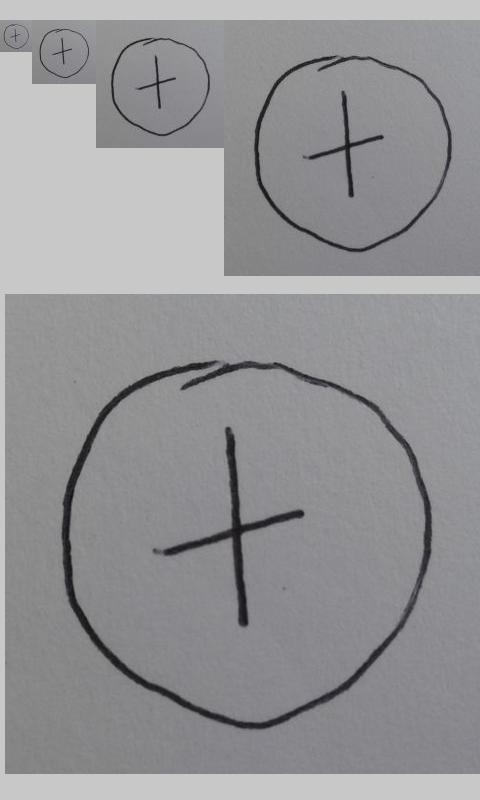button: (61, 357, 435, 729), (253, 54, 453, 254), (110, 36, 212, 136), (39, 28, 91, 79), (3, 24, 29, 49)
